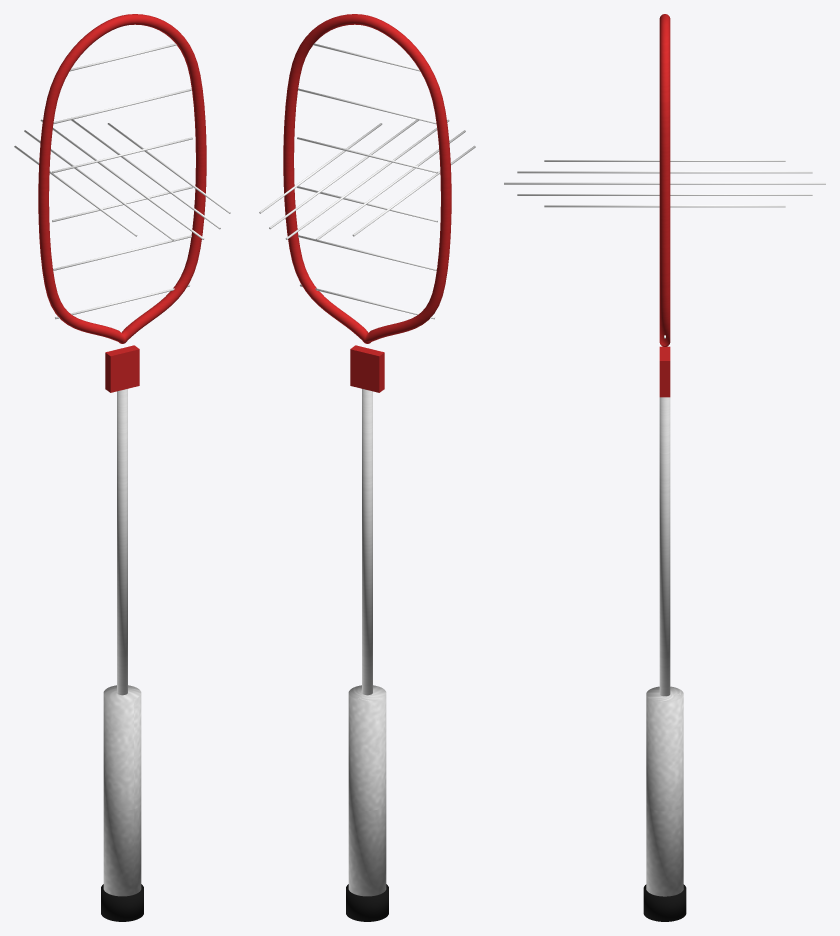
Rendered from ai_parts_db0f1b.glb.
3 views of the same model, side by side, from view 1: azimuth 30°, elevation 25°; view 2: azimuth 150°, elevation 25°; view 3: azimuth 270°, elevation 25° (orthographic).
Visible parts, largest first — view 1: 04_head_frame, 00_handle, 02_shaft, 03_t_joint, 01_handle_cap, 05_string_vertical_1, 07_string_vertical_3, 06_string_vertical_2; view 2: 04_head_frame, 00_handle, 02_shaft, 03_t_joint, 01_handle_cap, 05_string_vertical_1, 07_string_vertical_3, 06_string_vertical_2; view 3: 00_handle, 04_head_frame, 02_shaft, 01_handle_cap, 05_string_vertical_1, 06_string_vertical_2, 09_string_vertical_5.
Part boxes in pixels (x1,y1,x2,y2): 04_head_frame: (38,14,206,343); 00_handle: (103,685,141,896); 02_shaft: (117,389,127,695); 03_t_joint: (105,345,139,392); 01_handle_cap: (101,884,143,921); 05_string_vertical_1: (40,119,204,239); 07_string_vertical_3: (71,119,220,229); 06_string_vertical_2: (24,130,174,240); 04_head_frame: (283,14,451,343); 00_handle: (348,685,386,896); 02_shaft: (362,389,372,695); 03_t_joint: (350,345,384,392); 01_handle_cap: (346,884,388,921); 05_string_vertical_1: (285,119,449,239); 07_string_vertical_3: (269,119,418,229); 06_string_vertical_2: (315,130,465,240); 00_handle: (646,686,683,896); 04_head_frame: (659,14,670,346); 02_shaft: (659,397,670,696); 01_handle_cap: (643,884,686,921); 05_string_vertical_1: (504,182,825,184); 06_string_vertical_2: (517,171,812,173); 09_string_vertical_5: (544,205,785,207).
Bounding box in the file's own units: 14.3 × 73.4 × 24.
Materials: 6 (6 with a texture image).
